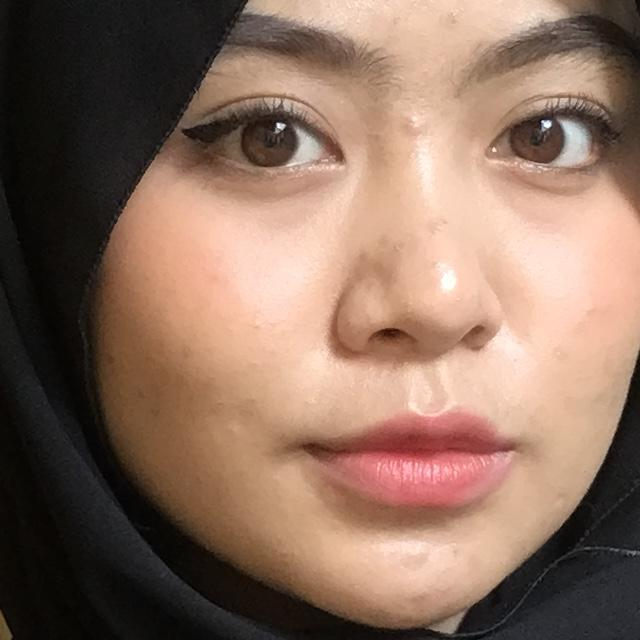kapan: (0, 366, 345, 640)
